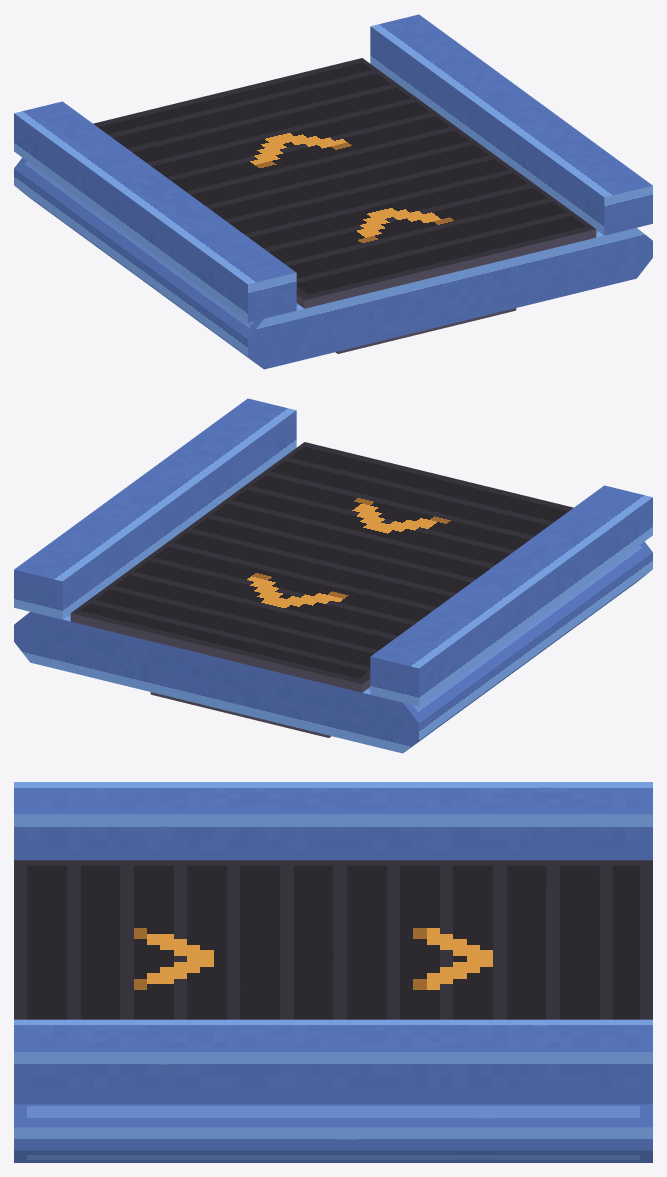
The model's file is belt.glb.
3 views of the same model, one above another, from view 1: azimuth 30°, elevation 25°; view 2: azimuth 150°, elevation 25°; view 3: azimuth 270°, elevation 25° (orthographic). The views are drawn at different scales.
Visible parts, largest first — view 1: belt_body; view 2: belt_body; view 3: belt_body.
Boxes of the visible parts, left/top/right/bottom form: belt_body: left=14, top=14, right=652, bottom=369; belt_body: left=14, top=398, right=652, bottom=753; belt_body: left=14, top=782, right=652, bottom=1162.
Bounding box in the file's own units: 1 × 0.27 × 1.
1 material, 1 textured.
